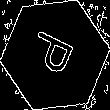P_SE: (27, 28, 83, 82)
